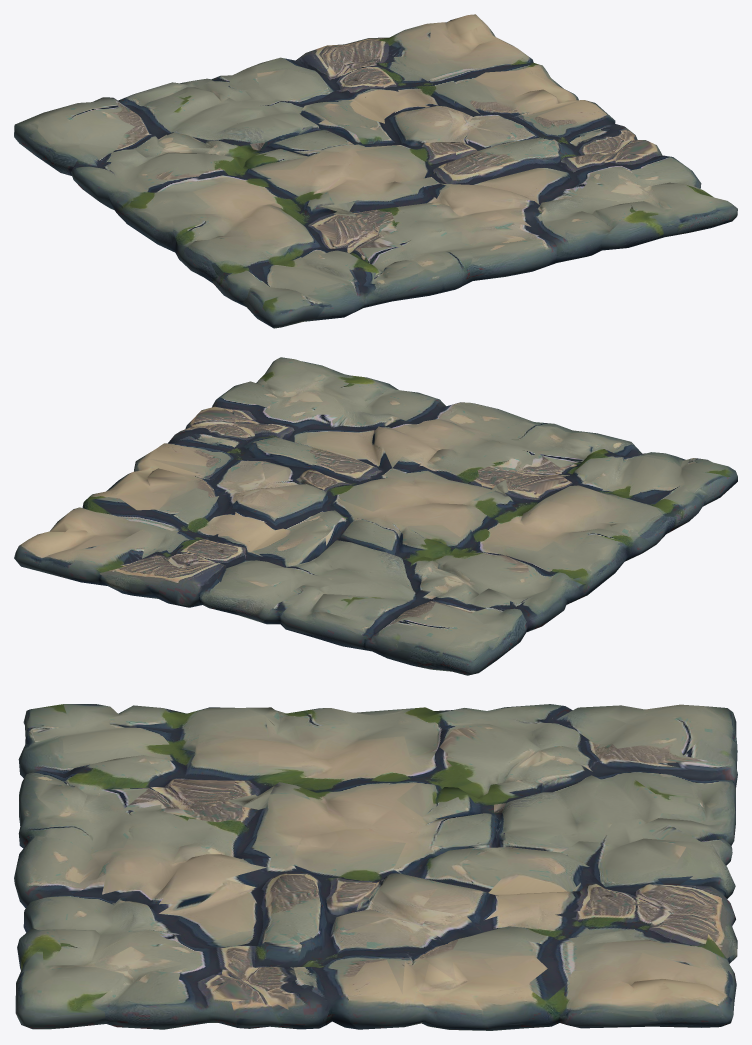
File: slab.glb
The picture shows the model from 3 angles, top to bottom: view 1: azimuth 30°, elevation 25°; view 2: azimuth 150°, elevation 25°; view 3: azimuth 270°, elevation 25°; orthographic projection. The views are drawn at different scales.
Visible parts, largest first — view 1: SLAB; view 2: SLAB; view 3: SLAB.
Part boxes in pixels (<box>): SLAB: <box>14,14,737,328</box>; SLAB: <box>14,357,737,675</box>; SLAB: <box>14,704,737,1030</box>.
Size of the model in its own units: 2.19 by 0.1423 by 2.2.
1 material, 1 textured.
